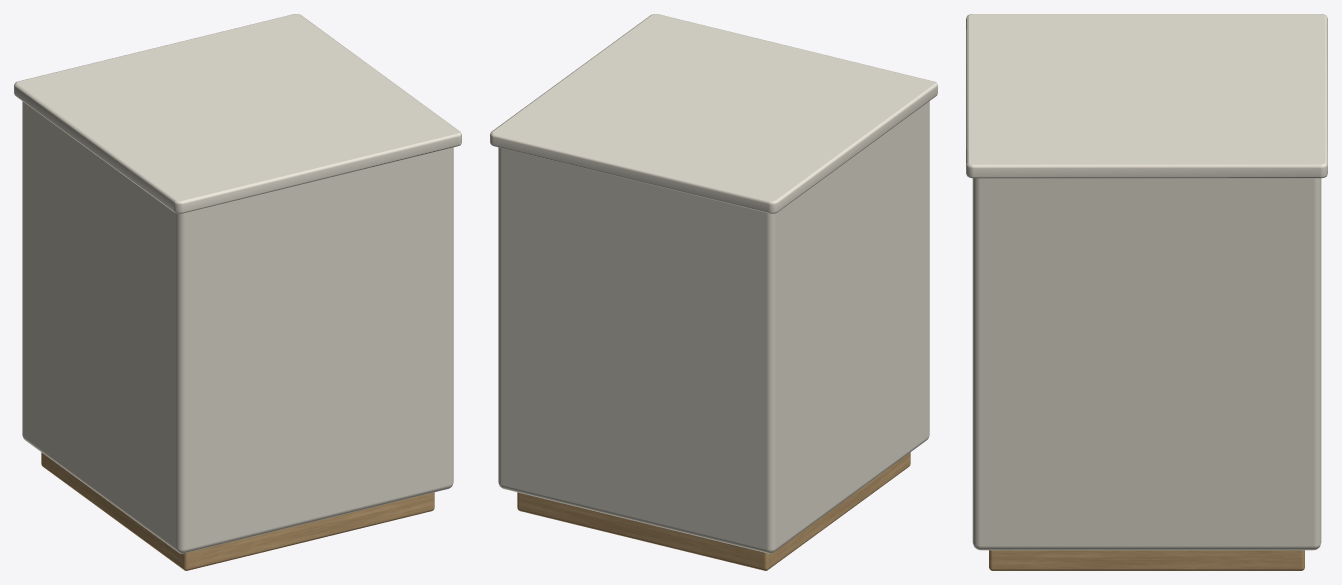
File: plinth_ivory.glb
3 views of the same model, side by side, from view 1: azimuth 30°, elevation 25°; view 2: azimuth 150°, elevation 25°; view 3: azimuth 270°, elevation 25° (orthographic). The views are drawn at different scales.
Parts seen in each view (by area): view 1: Warm_Ivory_detail_group, Oak_detail_group; view 2: Warm_Ivory_detail_group, Oak_detail_group; view 3: Warm_Ivory_detail_group, Oak_detail_group.
Part boxes in pixels (x1=…): Warm_Ivory_detail_group: x1=14, y1=14, x2=461, y2=553; Oak_detail_group: x1=41, y1=452, x2=434, y2=570; Warm_Ivory_detail_group: x1=490, y1=14, x2=937, y2=553; Oak_detail_group: x1=517, y1=452, x2=910, y2=570; Warm_Ivory_detail_group: x1=966, y1=14, x2=1327, y2=550; Oak_detail_group: x1=989, y1=550, x2=1304, y2=570.
Size of the model in its own units: 0.87 by 1.1 by 0.87.
2 materials, 1 textured.
